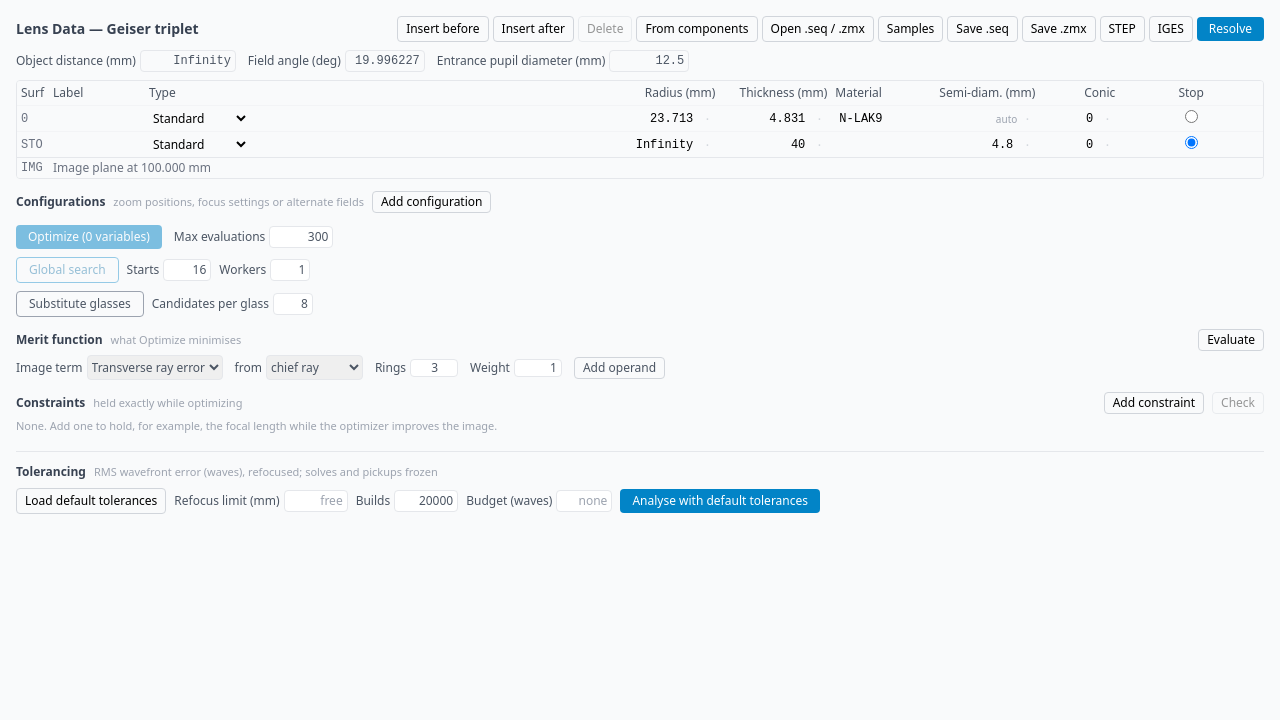
Test: sample lenses › reports a sample list that cannot be fetched
This screenshot has width=1280, height=720.
Click the button "Samples": (911, 29) [878,16,943,42]
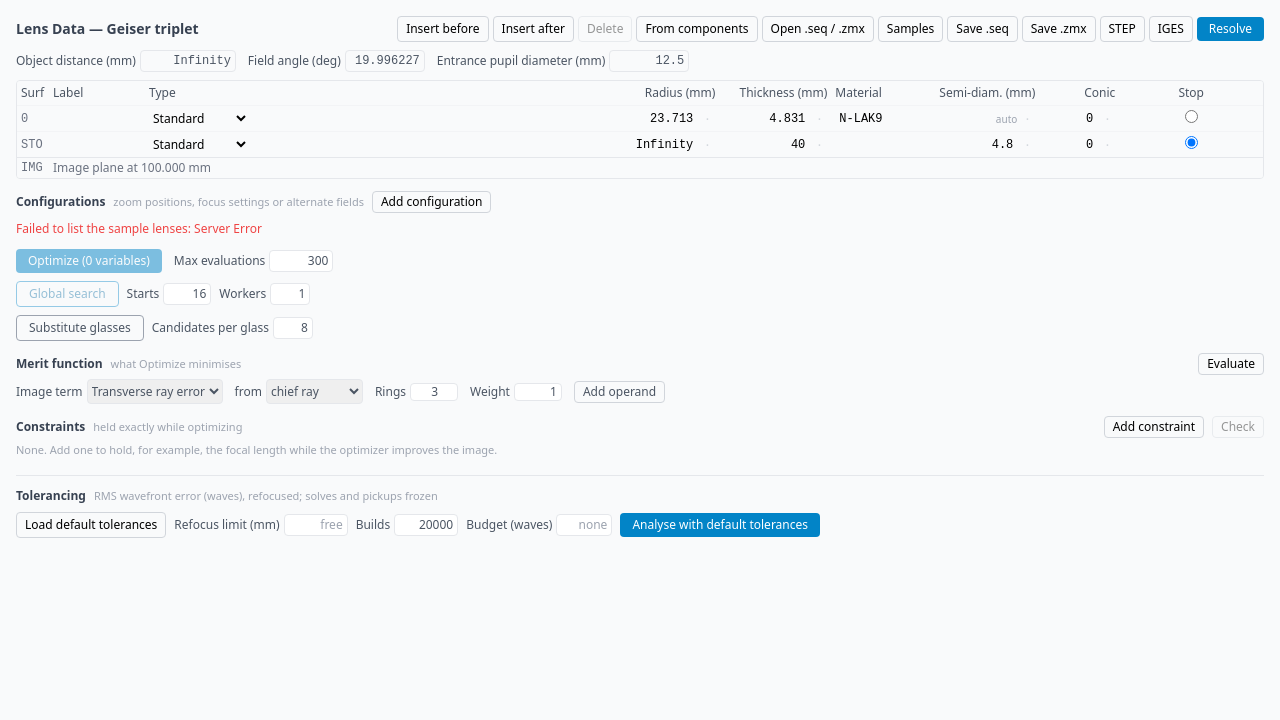
expect the message shows "Failed to list the sample lenses": met, box [16,220,262,237]
